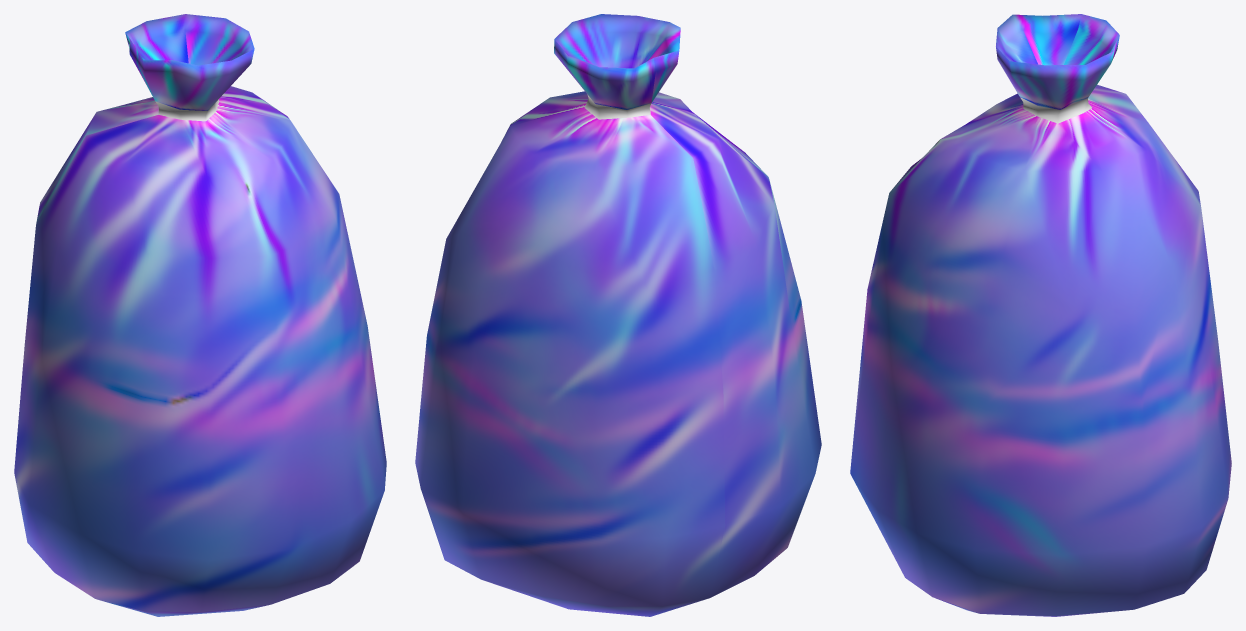
Rendered from sack1.fbx.
3 renders of one model, left to right at view 1: azimuth 30°, elevation 25°; view 2: azimuth 150°, elevation 25°; view 3: azimuth 270°, elevation 25°, orthographic.
Parts seen in each view (by area): view 1: sack1b:Group2; view 2: sack1b:Group2; view 3: sack1b:Group2.
Boxes of the visible parts, <box> form: sack1b:Group2: <box>14,14,386,616</box>; sack1b:Group2: <box>415,14,821,616</box>; sack1b:Group2: <box>850,14,1231,616</box>.
Size of the model in its own units: 0.7295 by 1.14 by 0.7254.
